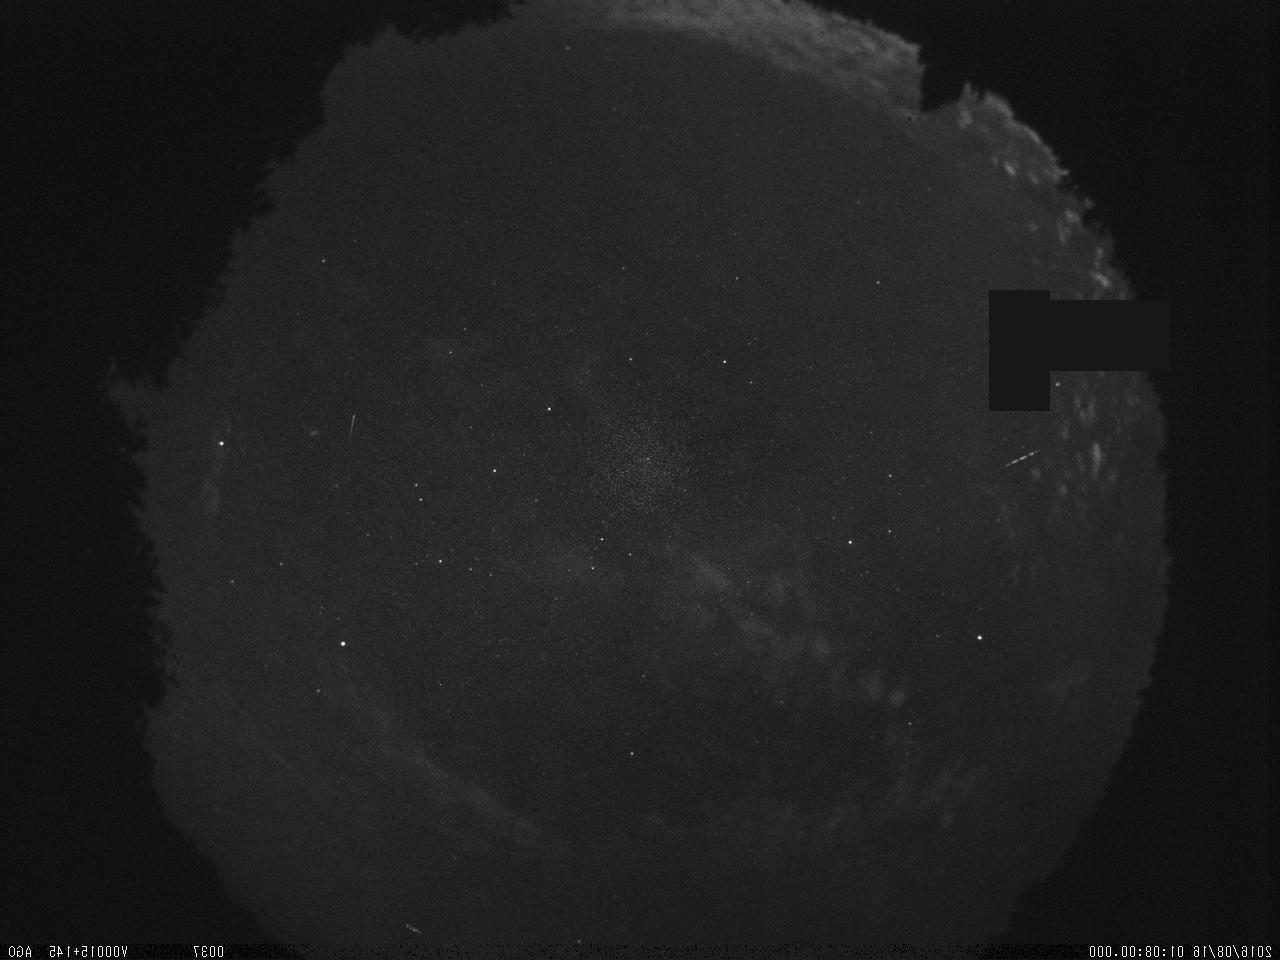meteor: (328, 405, 373, 449)
